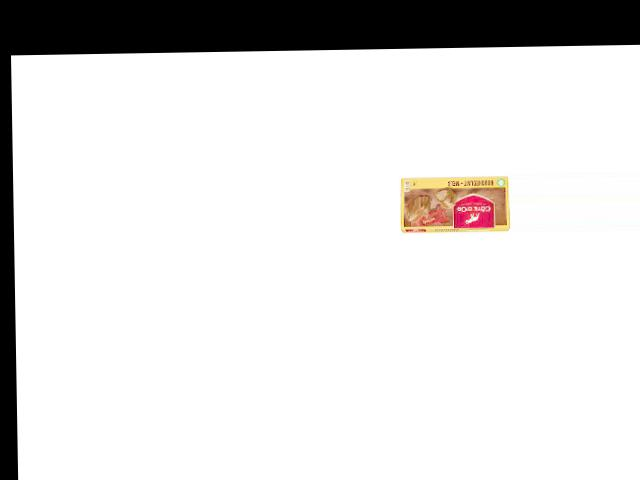chocolate: (397, 166, 509, 235)
